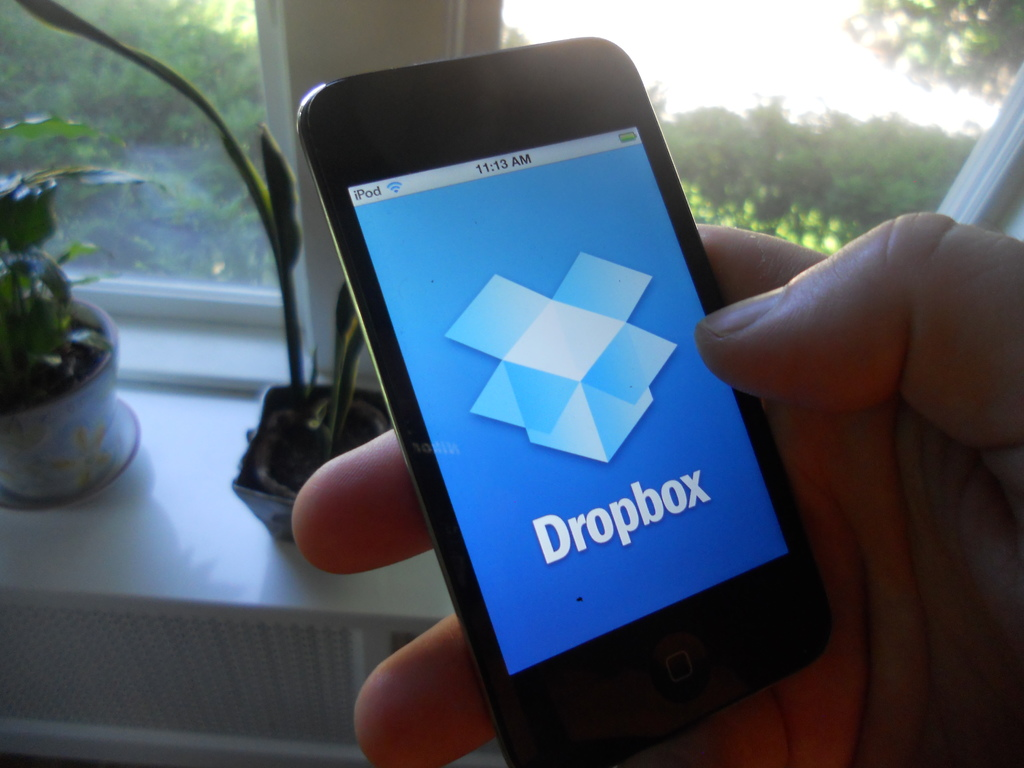Mobile-phone: (296, 33, 835, 767)
